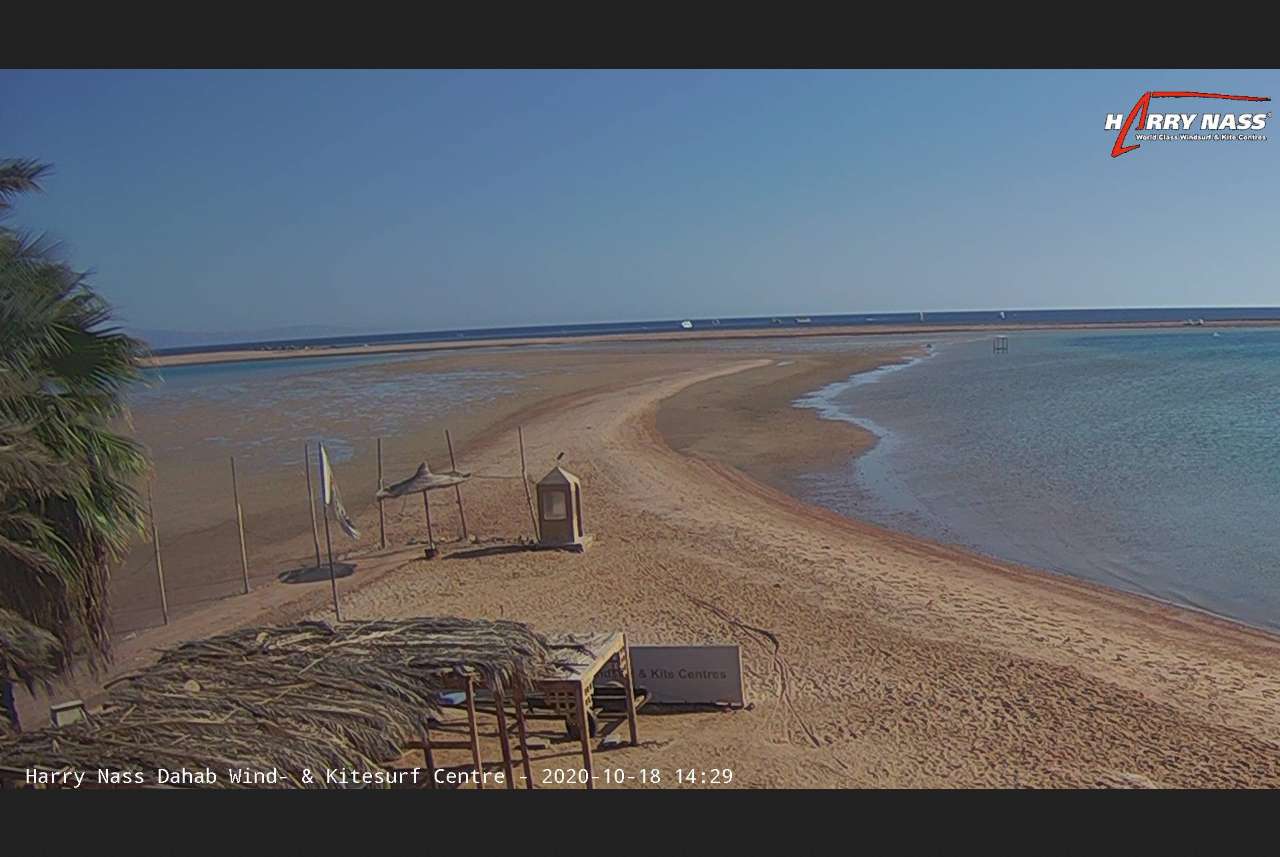no: (318, 447, 359, 541)
